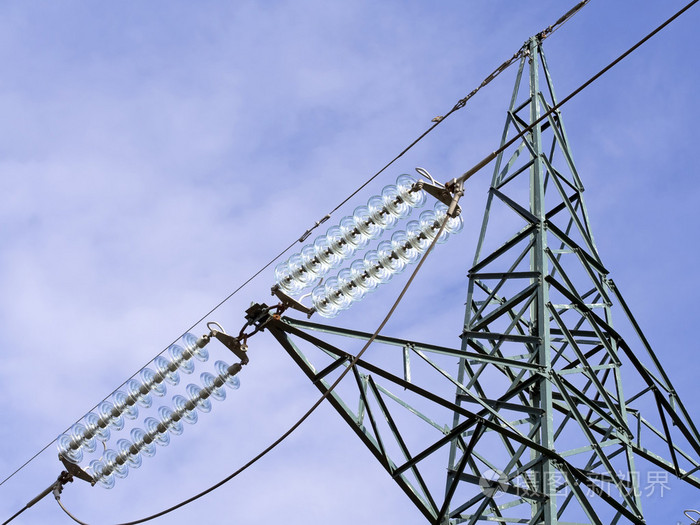insulator: (56, 330, 209, 459), (91, 364, 241, 489), (272, 175, 425, 292), (311, 201, 464, 317)
